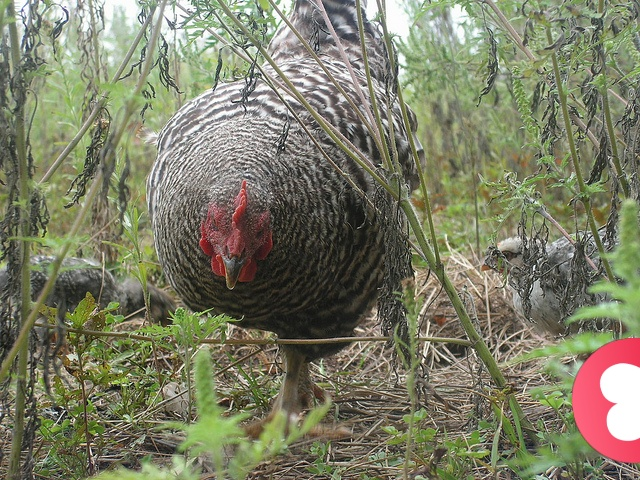love: (572, 338, 640, 463)
